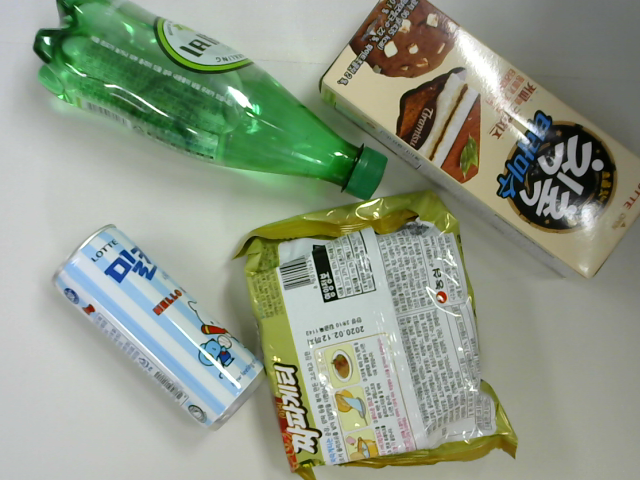Chicchok_Tiramisu: (320, 1, 640, 281)
Milkies_250ml: (49, 223, 266, 431)
Olive_Chapaghetti: (234, 192, 516, 480)
Treviraim_500ml: (31, 1, 388, 202)
